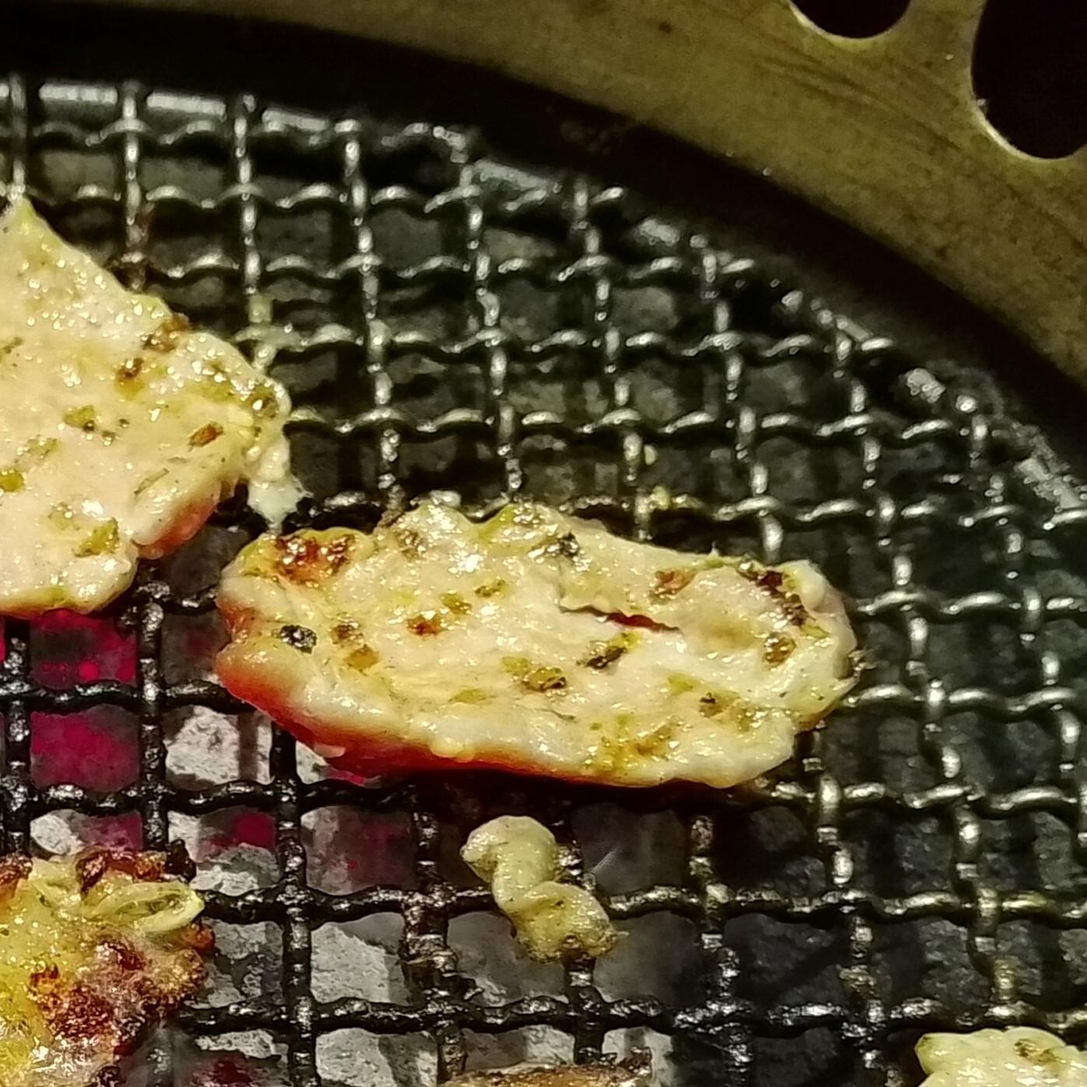Overcooked: (0, 849, 216, 1086)
Well-Cooked: (197, 491, 869, 807), (0, 192, 292, 630), (913, 1028, 1086, 1086)
